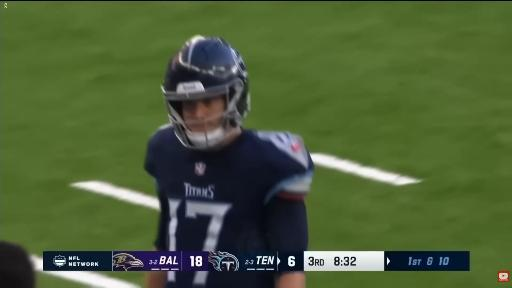Helmet: (162, 36, 250, 149)
Jersey: (145, 127, 313, 251)
Player: (145, 36, 313, 251)
